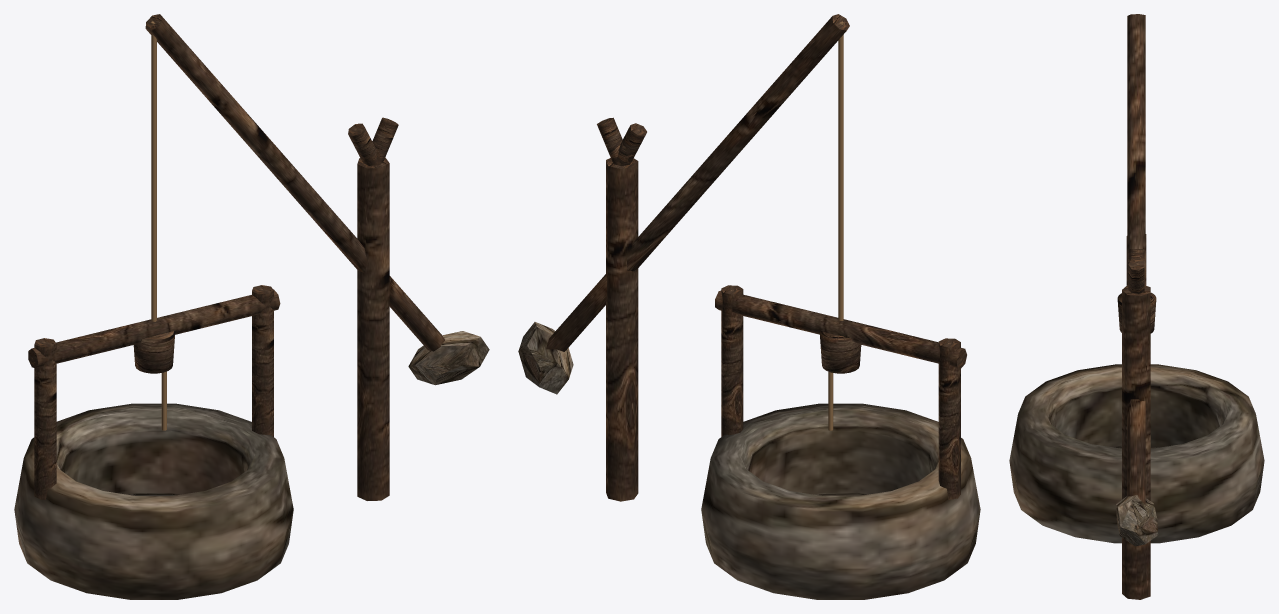
The model's file is wellSweep.glb.
3 views of the same model, side by side, from view 1: azimuth 30°, elevation 25°; view 2: azimuth 150°, elevation 25°; view 3: azimuth 270°, elevation 25° (orthographic). The views are drawn at different scales.
Parts seen in each view (by area): view 1: part_0, part_2, part_3; view 2: part_0, part_2, part_3; view 3: part_0, part_2.
Boxes of the visible parts, x1,y1,x2,y2 form: part_0: (14, 331, 489, 599); part_2: (28, 14, 444, 500); part_3: (151, 21, 166, 430); part_0: (518, 322, 980, 599); part_2: (546, 14, 966, 501); part_3: (828, 21, 843, 430); part_0: (1009, 364, 1264, 546); part_2: (1117, 14, 1156, 599).
Bounding box in the file's own units: 2.18 × 2.48 × 1.18.
Materials: 4 (2 with a texture image).
